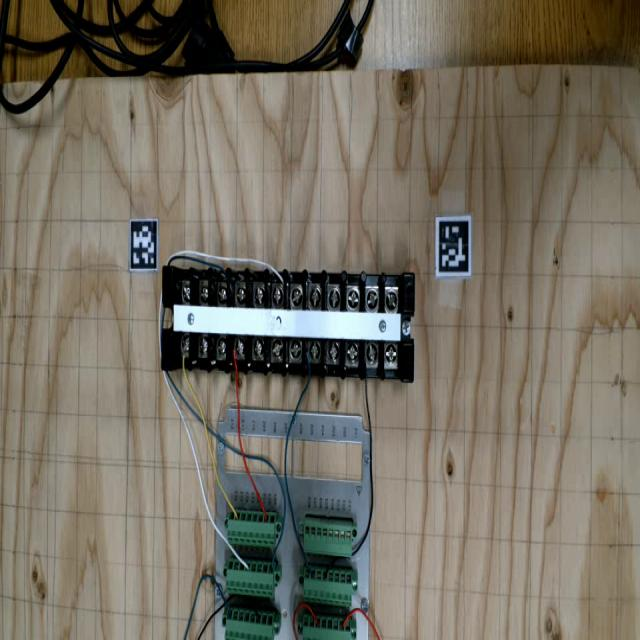Phillips_Block: (158, 262, 418, 382)
Terminal_2: (224, 558, 276, 598), (226, 509, 277, 547), (304, 567, 352, 607), (225, 607, 274, 640), (303, 614, 351, 639)
